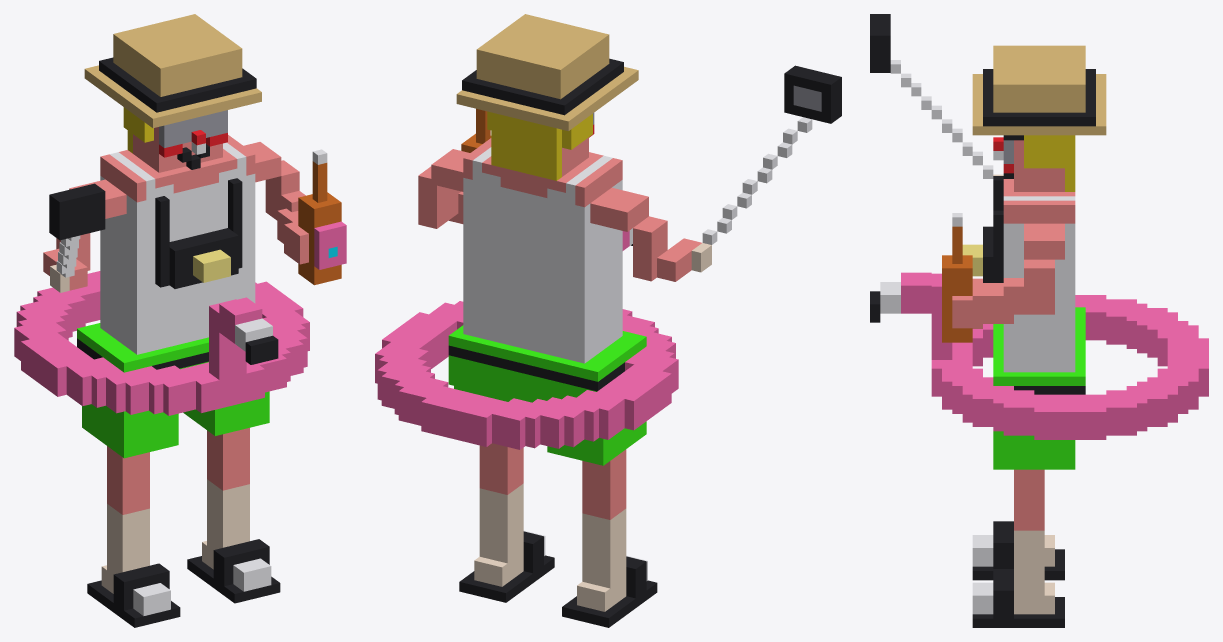
File: guiri.obj
3 views of the same model, side by side, from view 1: azimuth 30°, elevation 25°; view 2: azimuth 150°, elevation 25°; view 3: azimuth 270°, elevation 25° (orthographic). The views are drawn at different scales.
Bounding box in the file's own units: 3.6 × 5.7 × 3.3.
Materials: 1 (1 with a texture image).
